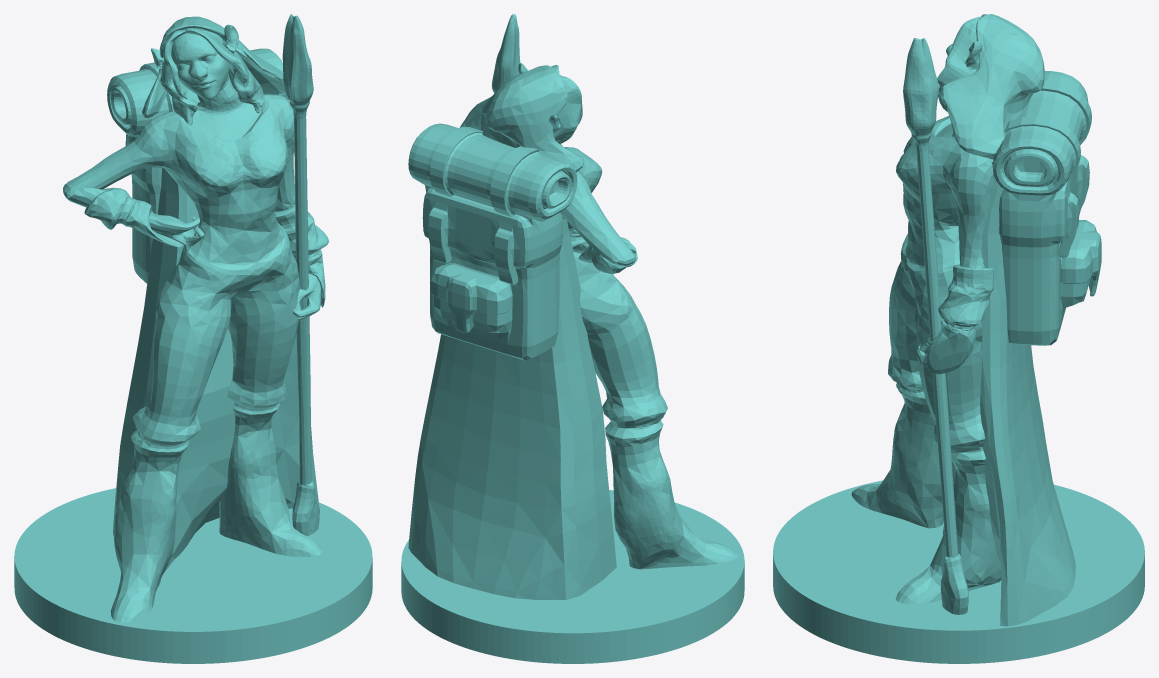
The model's file is Cyana.fbx.
3 renders of one model, left to right at view 1: azimuth 30°, elevation 25°; view 2: azimuth 150°, elevation 25°; view 3: azimuth 270°, elevation 25°, orthographic. The views are drawn at different scales.
Parts seen in each view (by area): view 1: Firbolg Female; view 2: Firbolg Female; view 3: Firbolg Female.
Part boxes in pixels (<box>): Firbolg Female: <box>14,14,372,663</box>; Firbolg Female: <box>401,14,744,663</box>; Firbolg Female: <box>773,14,1144,663</box>.
Size of the model in its own units: 2525 by 4412 by 2525.
